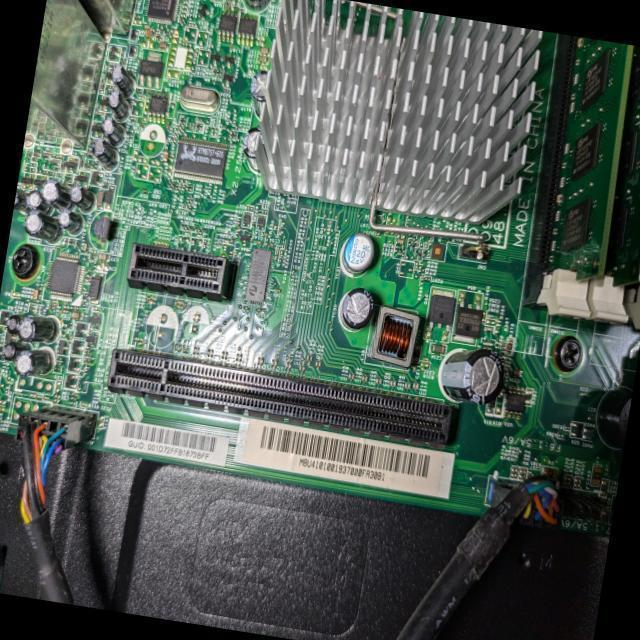Mainboard: (0, 0, 640, 539)
RAM: (525, 35, 640, 321), (581, 44, 640, 328)
